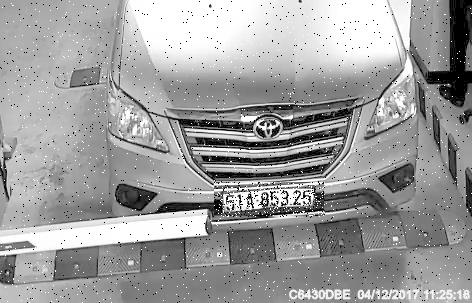License-plate: (216, 184, 327, 219)
